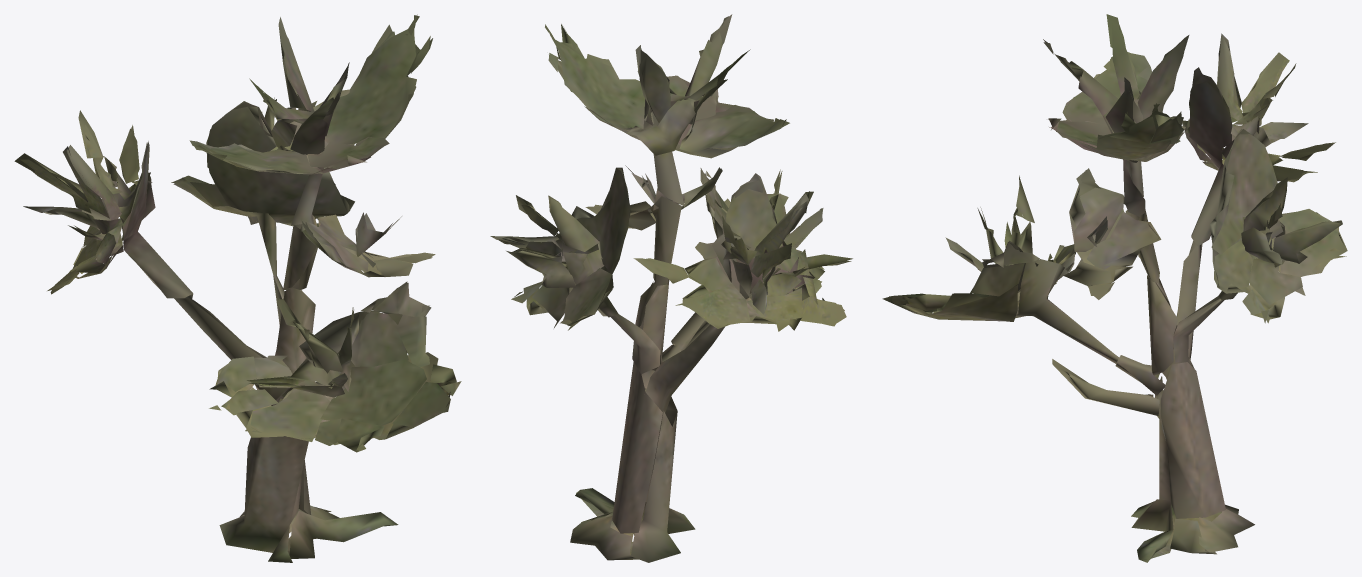
Rendered from deadwood_01_lod2.glb.
3 renders of one model, left to right at view 1: azimuth 30°, elevation 25°; view 2: azimuth 150°, elevation 25°; view 3: azimuth 270°, elevation 25°, orthographic. The views are drawn at different scales.
Parts seen in each view (by area): view 1: candidate_010_lod2; view 2: candidate_010_lod2; view 3: candidate_010_lod2.
Boxes of the visible parts, x1=… form: candidate_010_lod2: x1=14, y1=14, x2=461, y2=562; candidate_010_lod2: x1=490, y1=14, x2=852, y2=562; candidate_010_lod2: x1=882, y1=14, x2=1347, y2=562.
Bounding box in the file's own units: 0.1291 × 0.1882 × 0.1599.
1 material, 1 textured.
